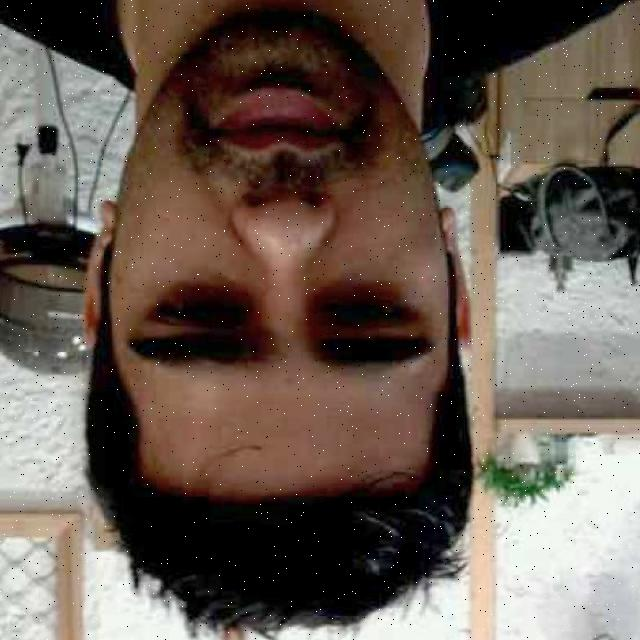puffy_eyes: (307, 282, 406, 329), (161, 279, 256, 311)
